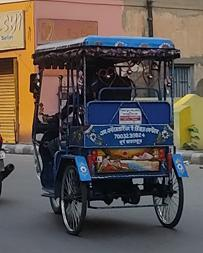Auto: (30, 35, 187, 237)
